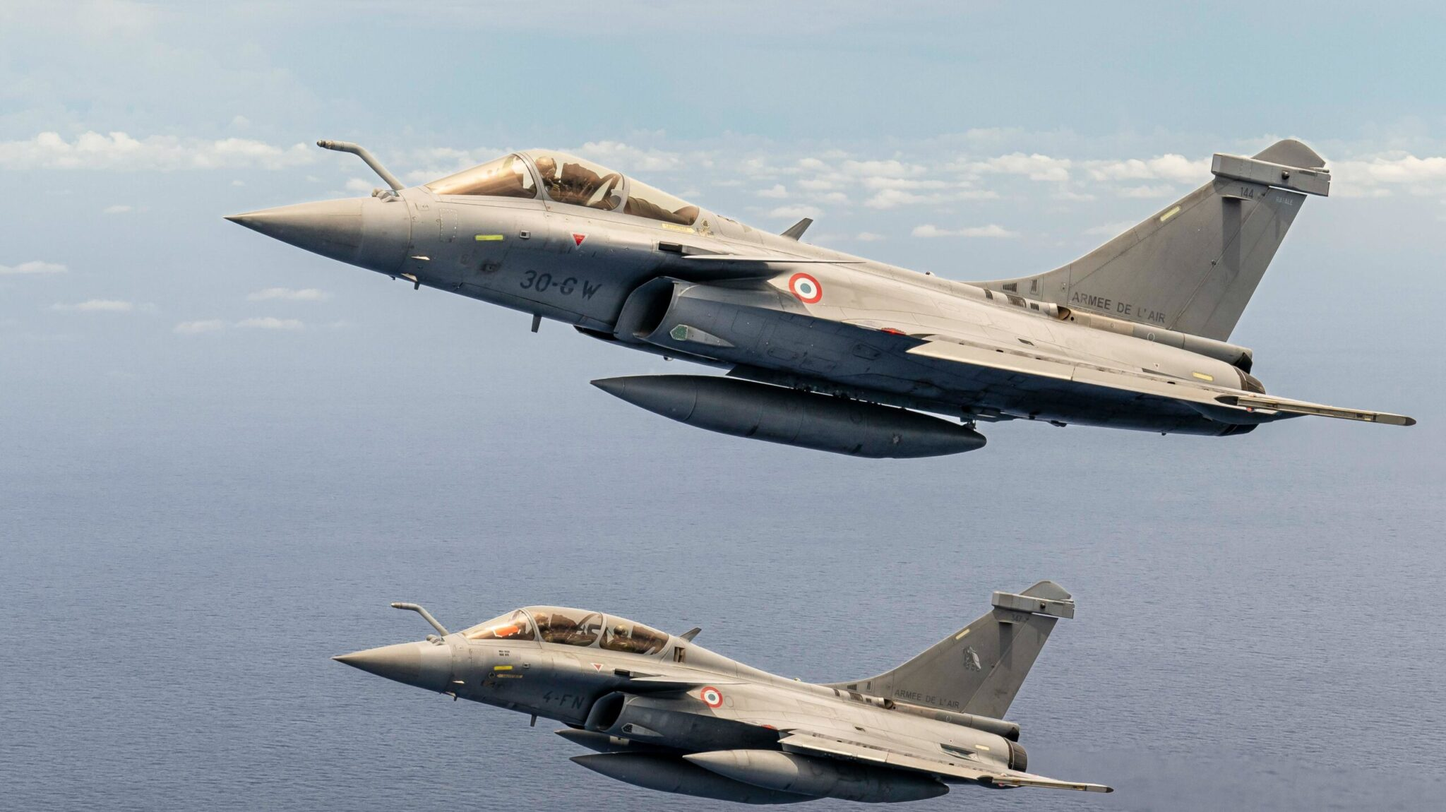Rafale: (215, 127, 1420, 463), (327, 574, 1119, 808)
